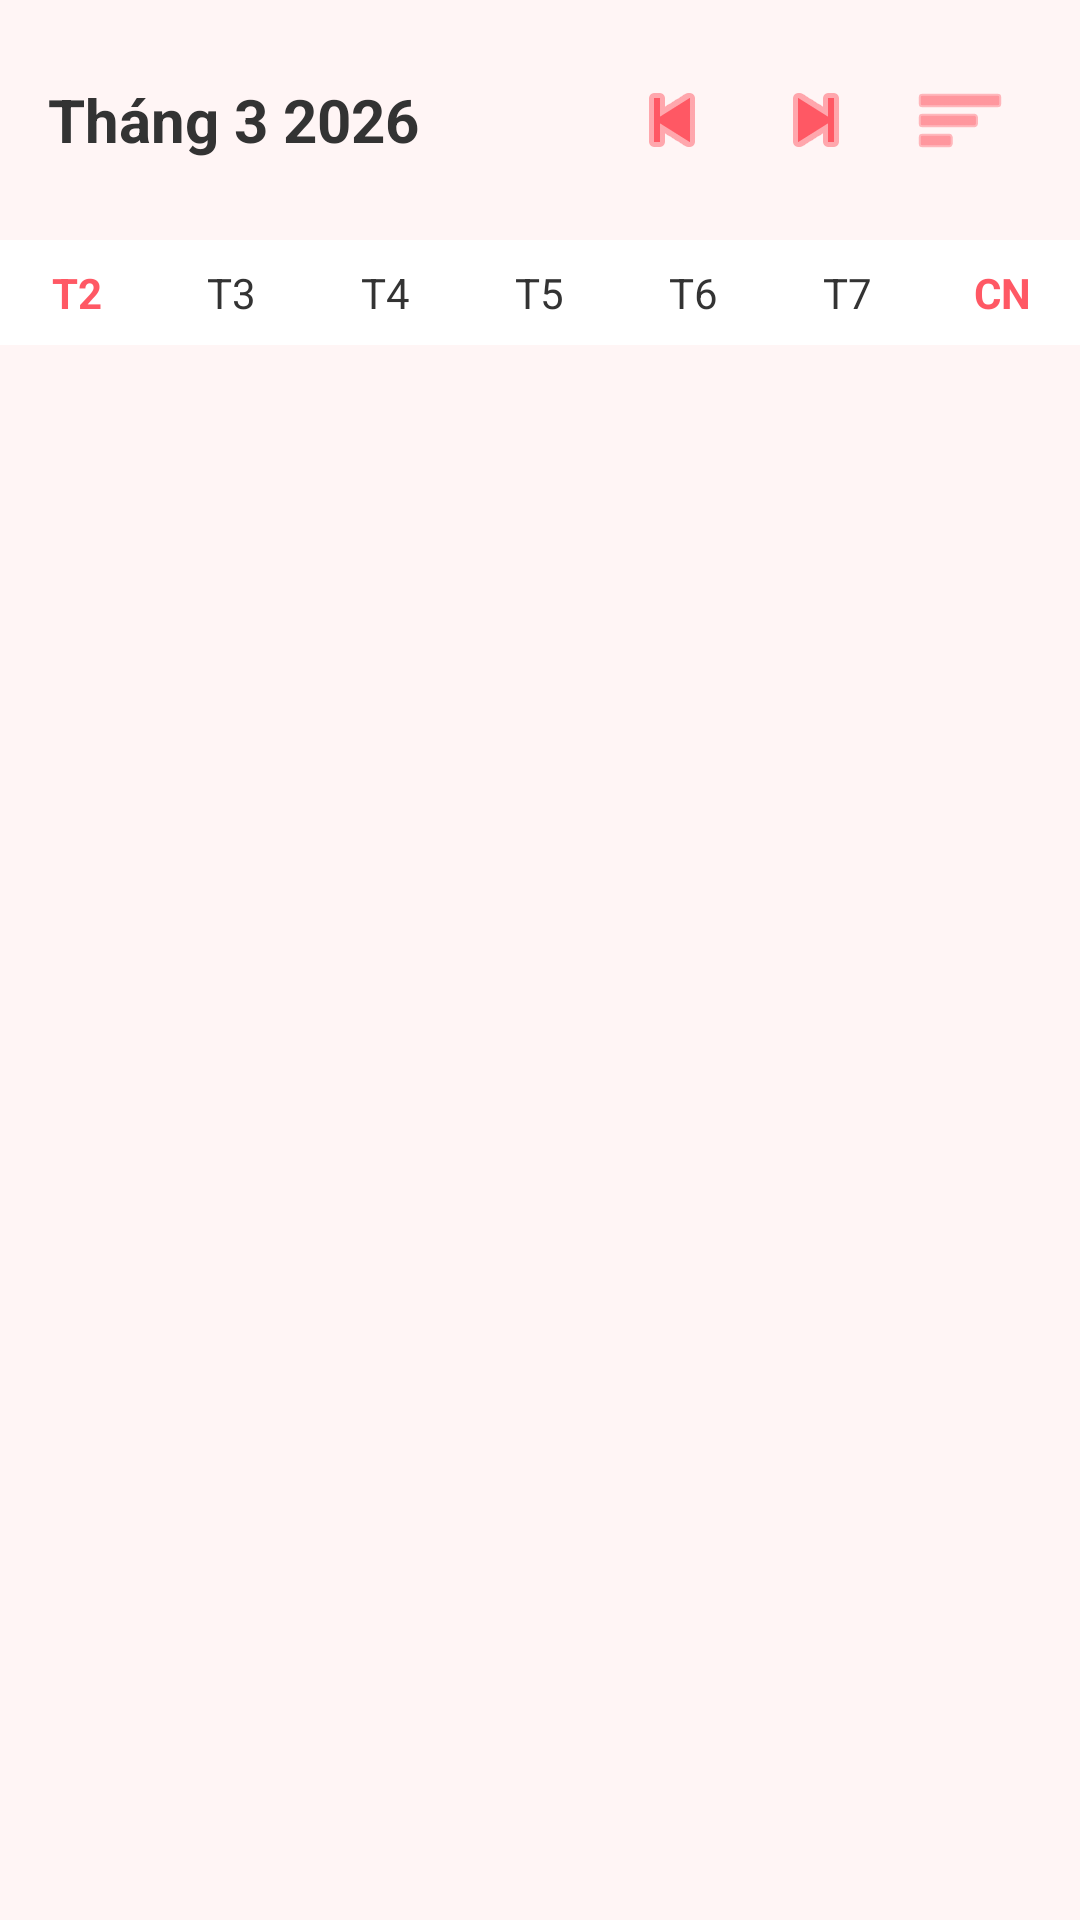

Locate icon controls on the screen. Image size 1080px×1920px, boxes as (x1, y1, x2, y2).
next: (793, 93, 839, 147)
previous: (649, 93, 695, 147)
sort by size: (919, 94, 1001, 147)
